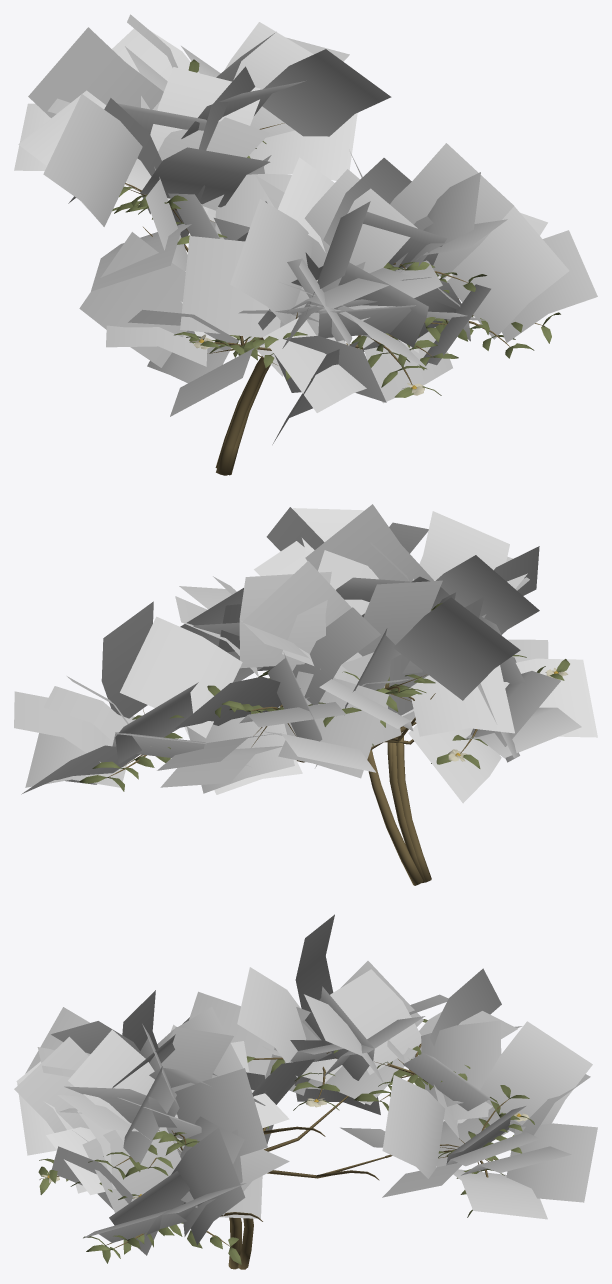
The model's file is Ciste_Incline_LOD0.fbx.
3 renders of one model, top to bottom at view 1: azimuth 30°, elevation 25°; view 2: azimuth 150°, elevation 25°; view 3: azimuth 270°, elevation 25°, orthographic. The views are drawn at different scales.
Parts seen in each view (by area): view 1: Ciste_Incline; view 2: Ciste_Incline; view 3: Ciste_Incline.
Part boxes in pixels (x1,y1,x2,y2): Ciste_Incline: [14, 14, 597, 475]; Ciste_Incline: [14, 504, 597, 885]; Ciste_Incline: [14, 914, 597, 1269].
Size of the model in its own units: 129 by 101 by 168.
